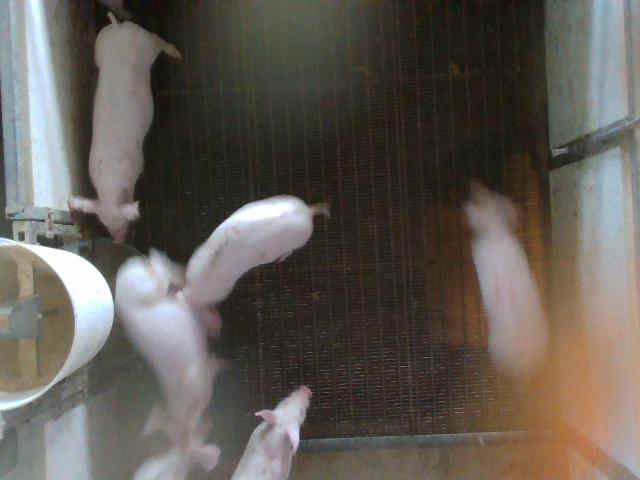pig-3: (170, 195, 329, 336)
pig-4: (465, 181, 548, 375)
